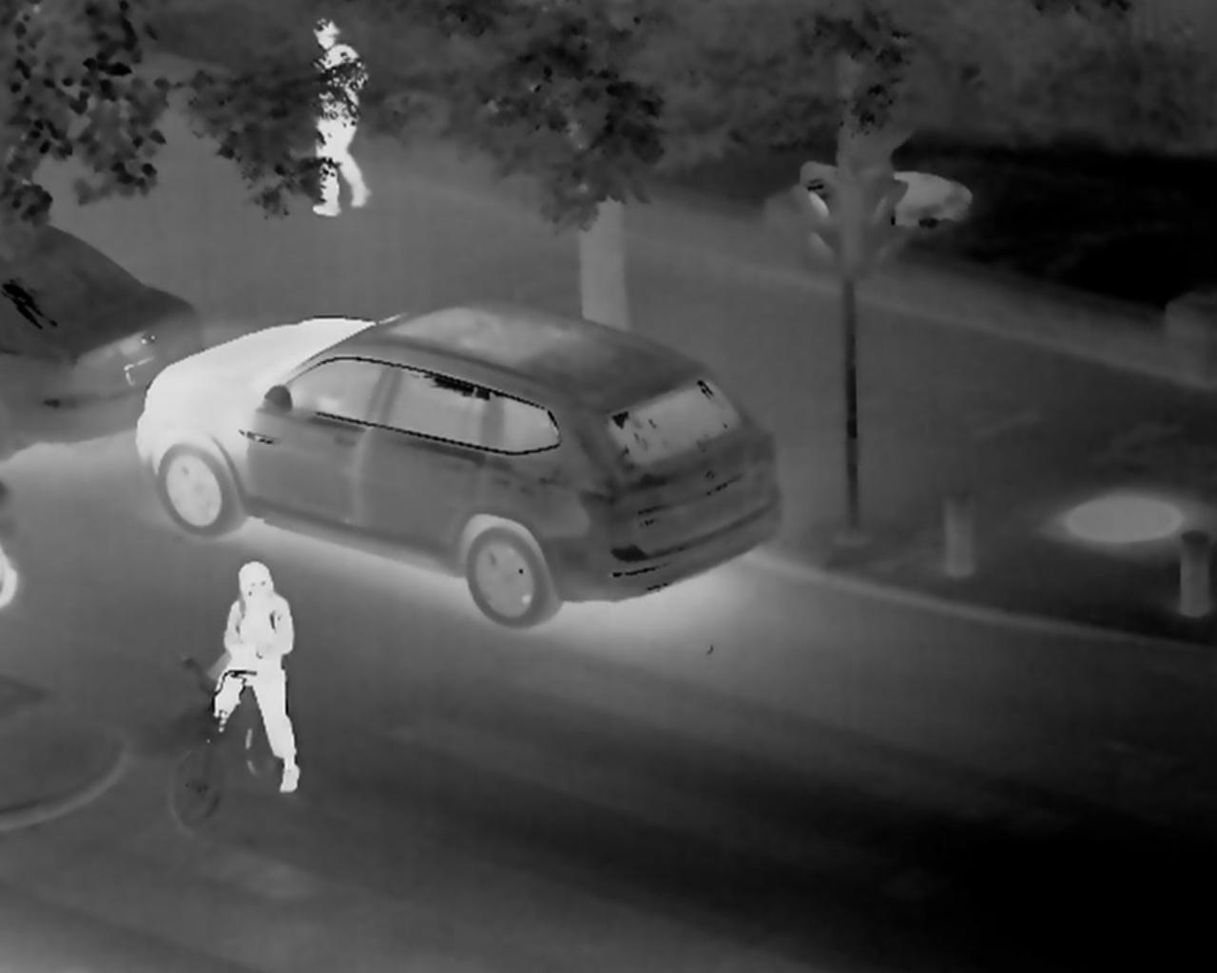person: (212, 554, 304, 797), (299, 15, 373, 220)
